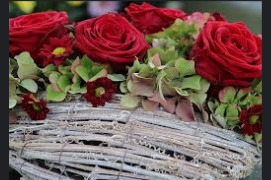RedRose: (189, 10, 261, 91), (74, 9, 144, 65), (9, 9, 69, 57), (127, 1, 187, 31)
